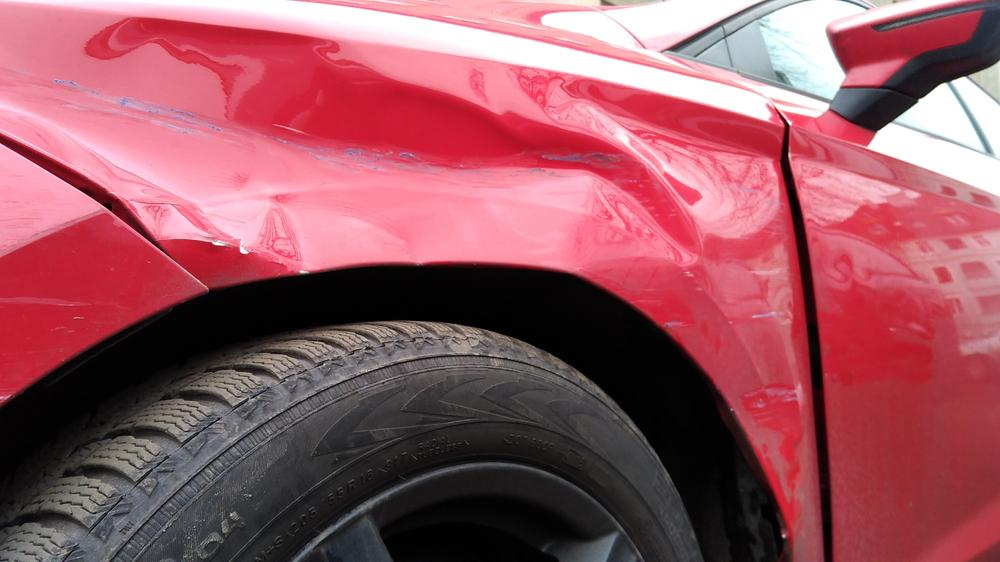dent: (24, 14, 706, 278)
